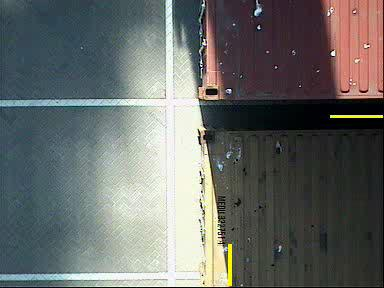groundmarker_2: (132, 60, 175, 150)
